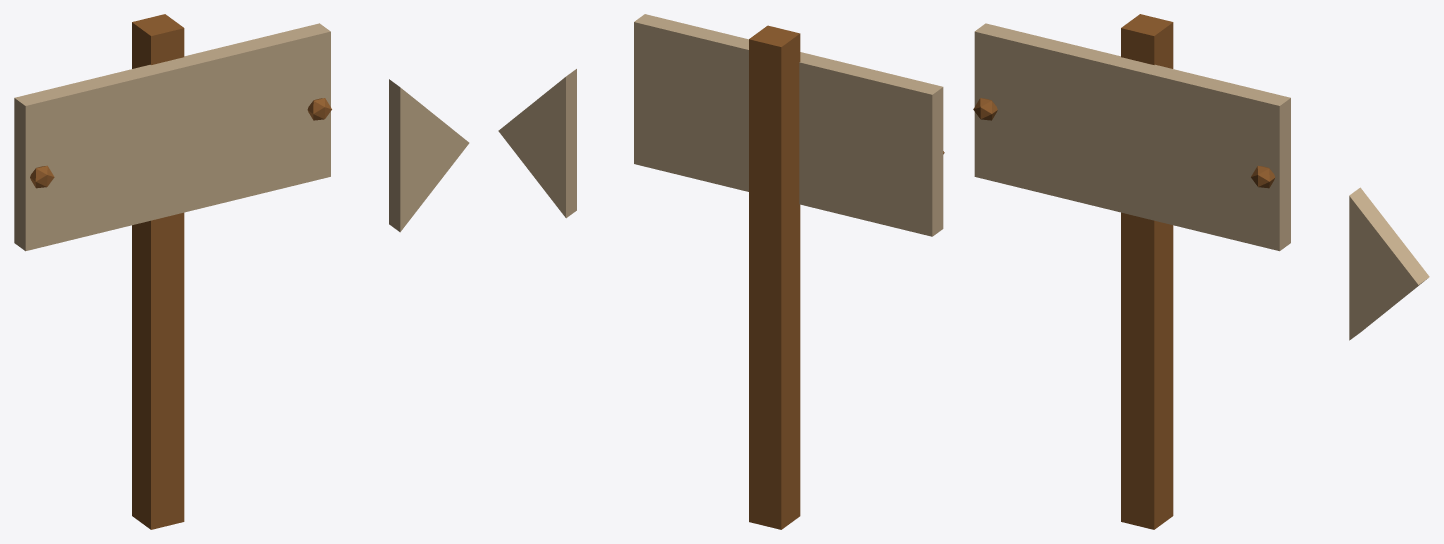
File: signpost.glb
3 views of the same model, side by side, from view 1: azimuth 30°, elevation 25°; view 2: azimuth 150°, elevation 25°; view 3: azimuth 330°, elevation 25° (orthographic). The views are drawn at different scales.
Visible parts, largest first — view 1: signpost_mesh; view 2: signpost_mesh; view 3: signpost_mesh.
Boxes of the visible parts, x1=… form: signpost_mesh: x1=14, y1=14, x2=469, y2=529; signpost_mesh: x1=498, y1=14, x2=944, y2=529; signpost_mesh: x1=973, y1=14, x2=1429, y2=529.
Bounding box in the file's own units: 1.6 × 1.7 × 0.234.
